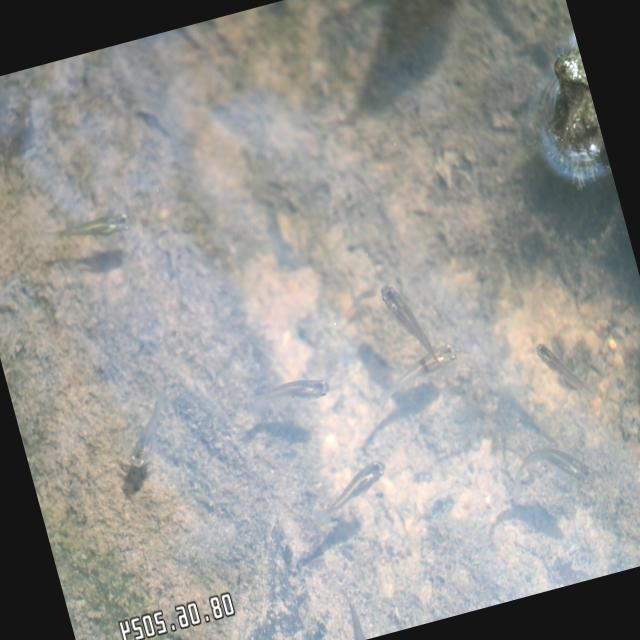Sivrisinek Baligi: (375, 271, 447, 374), (111, 379, 183, 470), (312, 452, 398, 526), (42, 194, 137, 256), (245, 356, 335, 416), (529, 328, 595, 409)
